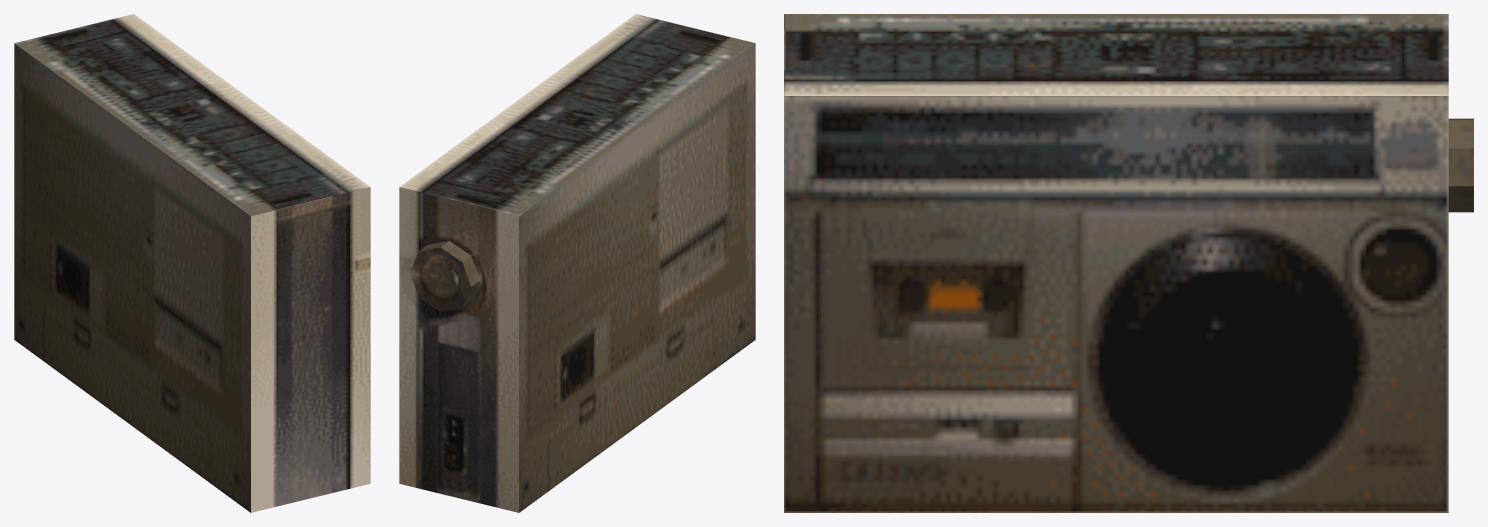
The model's file is Радио.fbx.
3 renders of one model, left to right at view 1: azimuth 30°, elevation 25°; view 2: azimuth 150°, elevation 25°; view 3: azimuth 270°, elevation 25°, orthographic. The views are drawn at different scales.
Parts seen in each view (by area): view 1: Radio; view 2: Radio; view 3: Radio.
Part boxes in pixels (box(x1,y1,x2,y2)): Radio: box(14, 14, 370, 512); Radio: box(399, 14, 755, 512); Radio: box(784, 14, 1473, 512).
Size of the model in its own units: 9.5 by 22.5 by 33.74.
1 material, 1 textured.
